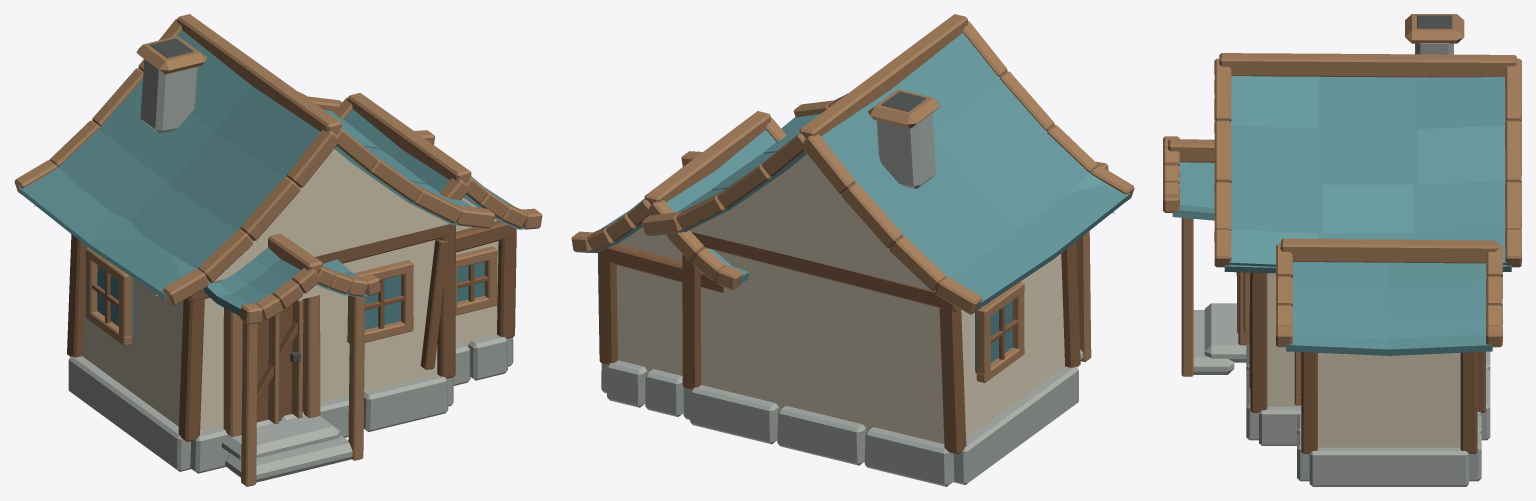
File: WallRush_Village_Cottage_B.glb
The picture shows the model from 3 angles, left to right: view 1: azimuth 30°, elevation 25°; view 2: azimuth 150°, elevation 25°; view 3: azimuth 270°, elevation 25°; orthographic projection. The views are drawn at different scales.
Visible parts, largest first — view 1: Village_Cottage_B_Village_TimberEdges, Village_Cottage_B_Village_RoofBlueGreen, Village_Cottage_B_Village_WarmPlaster, Village_Cottage_B_Village_PaleStone, Village_Cottage_B_Village_Timber, Village_Cottage_B_Village_WindowTeal, Village_Cottage_B_Village_Iron; view 2: Village_Cottage_B_Village_WarmPlaster, Village_Cottage_B_Village_RoofBlueGreen, Village_Cottage_B_Village_TimberEdges, Village_Cottage_B_Village_PaleStone, Village_Cottage_B_Village_Timber, Village_Cottage_B_Village_RoofBlueGreen_Sunward, Village_Cottage_B_Village_WindowTeal; view 3: Village_Cottage_B_Village_RoofBlueGreen, Village_Cottage_B_Village_TimberEdges, Village_Cottage_B_Village_RoofBlueGreen_Sunward, Village_Cottage_B_Village_WarmPlaster, Village_Cottage_B_Village_PaleStone, Village_Cottage_B_Village_Timber, Village_Cottage_B_Village_Iron.
Boxes of the visible parts, <box> form: Village_Cottage_B_Village_TimberEdges: <box>14,14,542,486</box>; Village_Cottage_B_Village_RoofBlueGreen: <box>18,30,524,316</box>; Village_Cottage_B_Village_WarmPlaster: <box>33,149,498,431</box>; Village_Cottage_B_Village_PaleStone: <box>68,59,513,482</box>; Village_Cottage_B_Village_Timber: <box>67,220,516,441</box>; Village_Cottage_B_Village_WindowTeal: <box>97,261,484,336</box>; Village_Cottage_B_Village_Iron: <box>150,38,300,362</box>; Village_Cottage_B_Village_WarmPlaster: <box>616,154,1114,443</box>; Village_Cottage_B_Village_RoofBlueGreen: <box>589,33,1130,309</box>; Village_Cottage_B_Village_TimberEdges: <box>571,14,1134,382</box>; Village_Cottage_B_Village_PaleStone: <box>601,113,1083,486</box>; Village_Cottage_B_Village_Timber: <box>597,232,1080,454</box>; Village_Cottage_B_Village_RoofBlueGreen_Sunward: <box>763,114,1106,193</box>; Village_Cottage_B_Village_WindowTeal: <box>975,300,1012,373</box>; Village_Cottage_B_Village_RoofBlueGreen: <box>1172,76,1511,355</box>; Village_Cottage_B_Village_TimberEdges: <box>1163,14,1521,405</box>; Village_Cottage_B_Village_RoofBlueGreen_Sunward: <box>1229,76,1505,266</box>; Village_Cottage_B_Village_WarmPlaster: <box>1267,273,1460,447</box>; Village_Cottage_B_Village_PaleStone: <box>1193,43,1490,486</box>; Village_Cottage_B_Village_Timber: <box>1249,272,1485,453</box>; Village_Cottage_B_Village_Iron: <box>1236,15,1452,275</box>.
Bounding box in the file's own units: 3.25 × 2.61 × 2.54.
